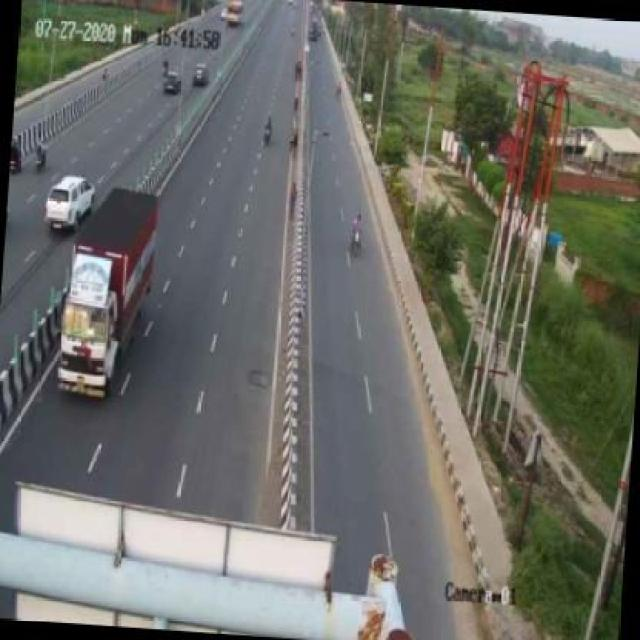car: (42, 175, 92, 237)
